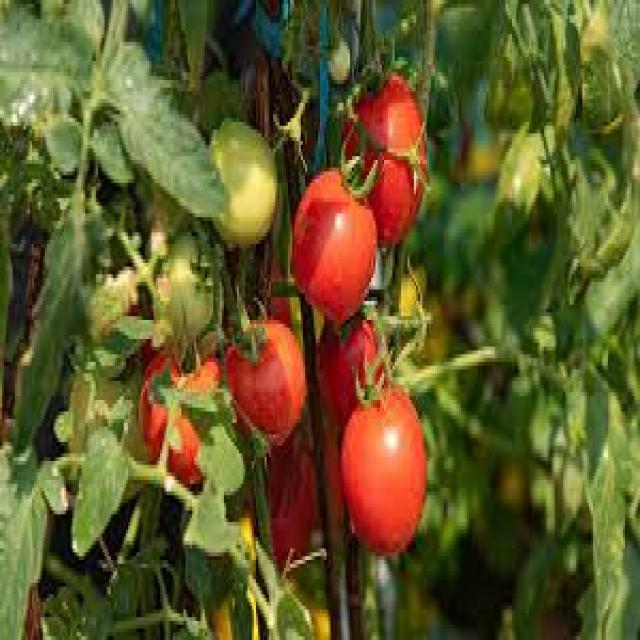tomato: (340, 382, 429, 558), (341, 68, 427, 242), (292, 168, 377, 323), (139, 339, 224, 488), (229, 319, 307, 447), (248, 446, 320, 564), (318, 311, 389, 420)
